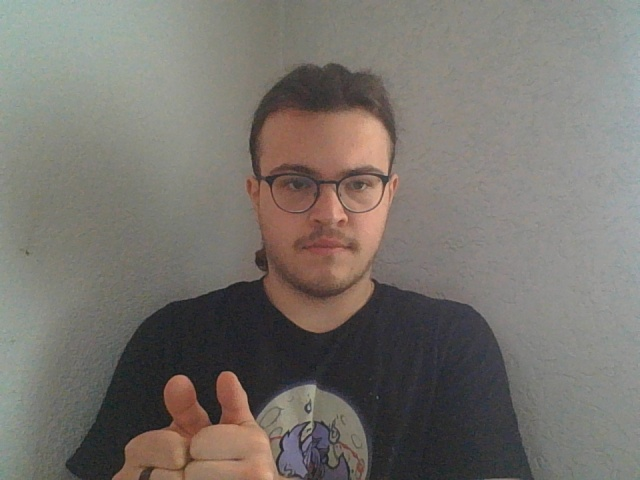Agree: (108, 368, 282, 480)
